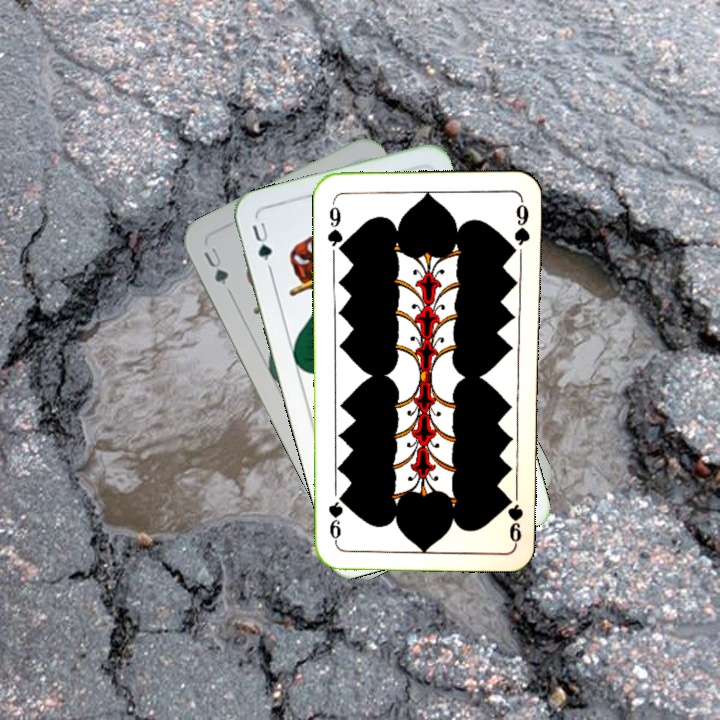G9: (324, 197, 347, 256), (507, 486, 526, 545)
GU: (248, 217, 275, 273), (199, 243, 231, 288)
